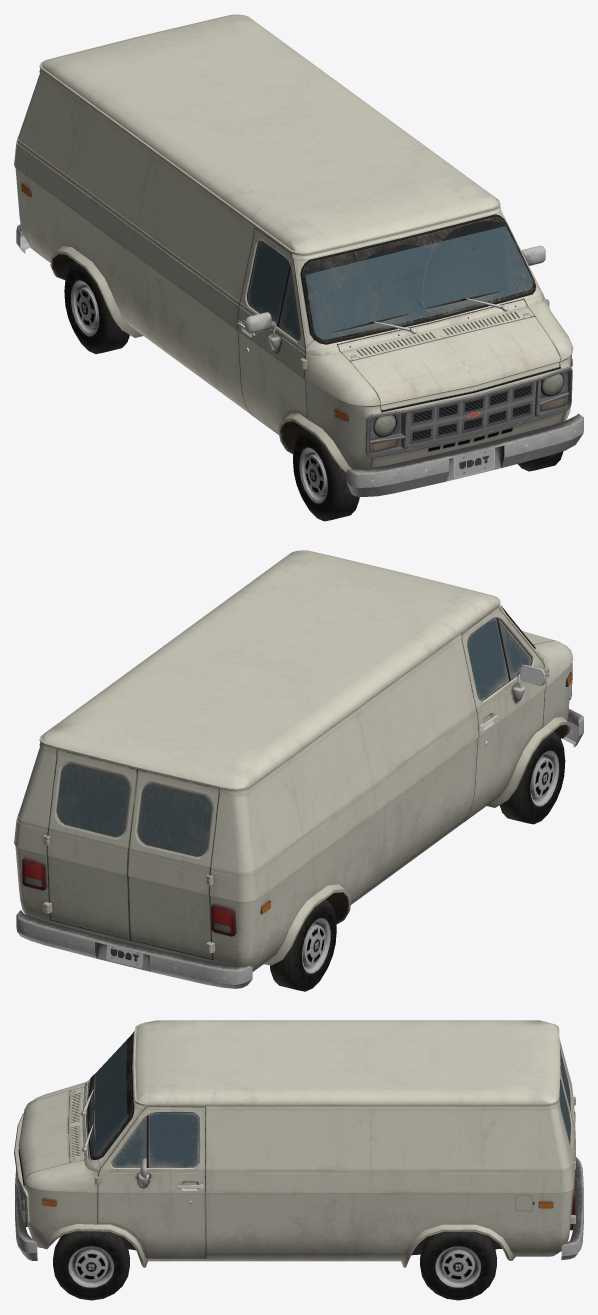
Rendered from van.glb.
3 views of the same model, one above another, from view 1: azimuth 30°, elevation 25°; view 2: azimuth 150°, elevation 25°; view 3: azimuth 270°, elevation 25° (orthographic). The views are drawn at different scales.
Parts seen in each view (by area): view 1: Object_2; view 2: Object_2; view 3: Object_2.
Boxes of the visible parts, bbox=[...] form: Object_2: bbox=[14, 14, 583, 521]; Object_2: bbox=[14, 550, 583, 991]; Object_2: bbox=[14, 1020, 583, 1300].
Size of the model in its own units: 1.52 by 1.21 by 3.12.
1 material, 1 textured.
